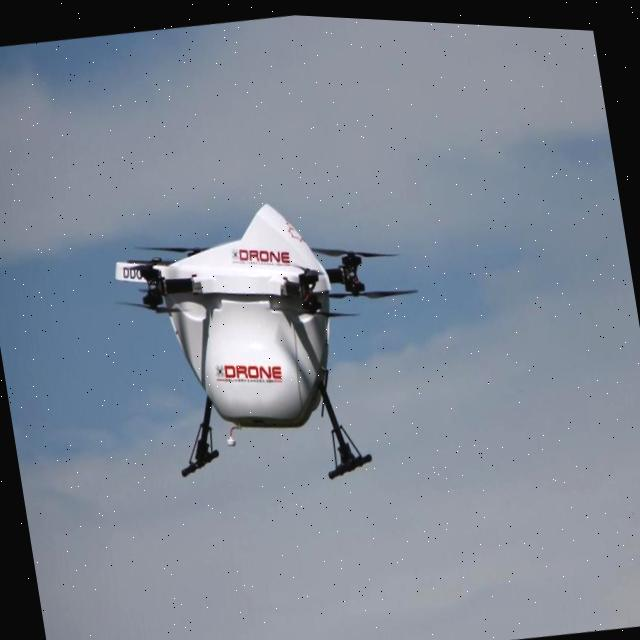drone: (63, 147, 473, 541)
